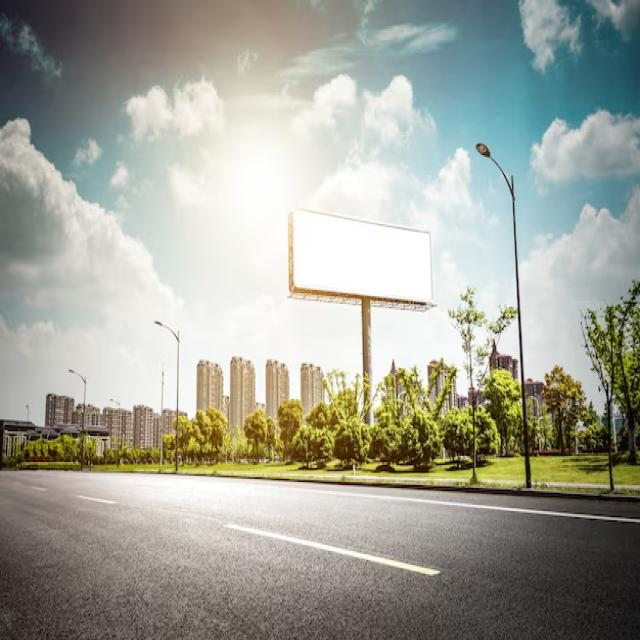Billboard_overhead: (279, 193, 462, 334)
Roadlane: (22, 467, 559, 636)
